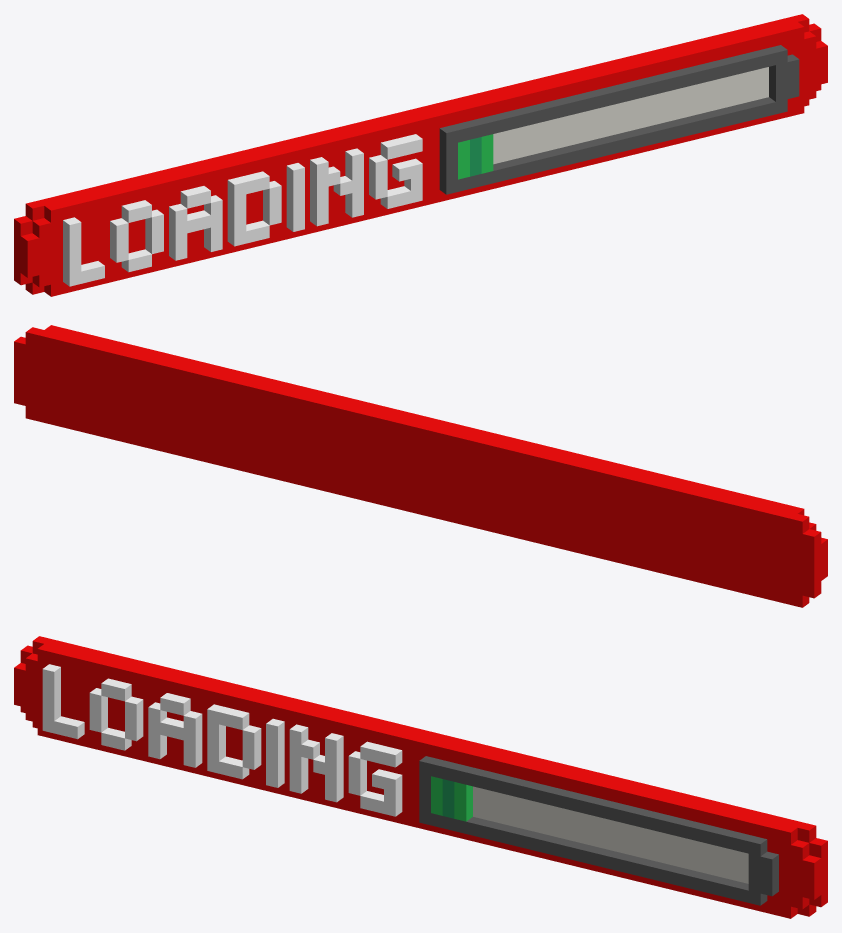
Rendered from loading_2.obj.
3 renders of one model, top to bottom at view 1: azimuth 30°, elevation 25°; view 2: azimuth 150°, elevation 25°; view 3: azimuth 330°, elevation 25°, orthographic.
Parts seen in each view (by area): view 1: loading_2; view 2: loading_2; view 3: loading_2.
Boxes of the visible parts, x1,y1,x2,y2 form: loading_2: [14, 14, 827, 296]; loading_2: [14, 325, 827, 607]; loading_2: [14, 636, 827, 918].
Bounding box in the file's own units: 68 × 7 × 3.
Materials: 1 (1 with a texture image).
